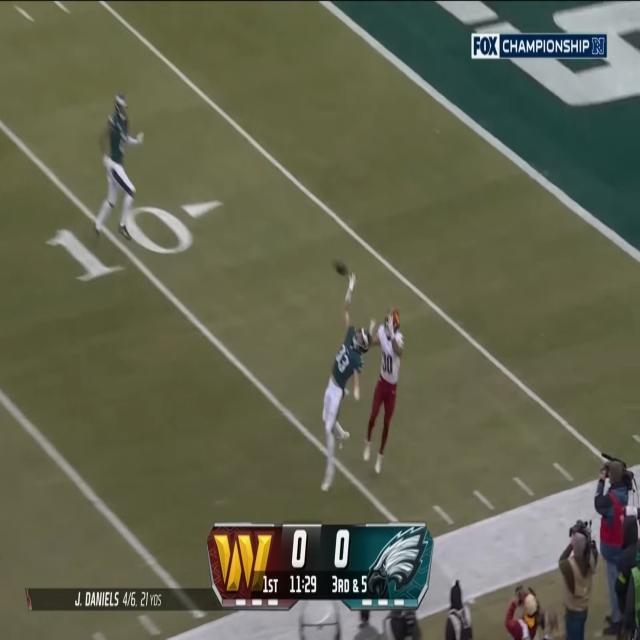Ball: (333, 255, 350, 278)
